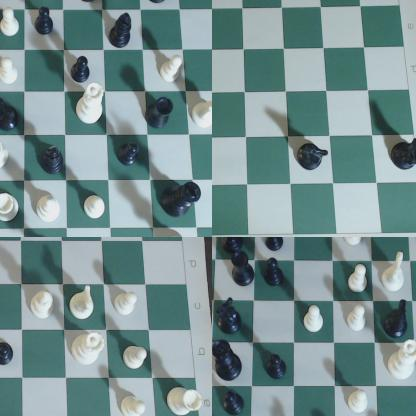black-bishop: (109, 11, 135, 51), (41, 143, 65, 177), (262, 259, 288, 287), (218, 238, 247, 257), (263, 238, 288, 253)
black-king: (160, 180, 203, 217)
black-knight: (296, 138, 330, 174), (384, 298, 412, 339), (217, 294, 243, 336), (390, 138, 416, 175), (1, 96, 22, 131)
black-pawn: (67, 54, 100, 84), (116, 139, 144, 174), (35, 4, 60, 42), (265, 351, 290, 383), (224, 390, 248, 416), (1, 338, 17, 369)
black-queen: (213, 339, 246, 382)
black-rook: (144, 99, 177, 133), (232, 250, 257, 287)
white-bishop: (28, 285, 60, 326), (35, 193, 62, 224)
white-knight: (383, 250, 409, 295), (69, 284, 100, 321), (192, 95, 212, 130)
white-pawn: (113, 290, 144, 321), (83, 192, 110, 226), (1, 55, 25, 90), (120, 346, 152, 372), (345, 304, 371, 334), (346, 265, 371, 296), (121, 392, 151, 416), (160, 56, 183, 87), (3, 7, 24, 39), (303, 305, 325, 335), (347, 390, 372, 413), (343, 238, 365, 247)
white-queen: (76, 82, 107, 127), (72, 333, 108, 370), (386, 339, 416, 383)
white-rook: (164, 380, 202, 416), (1, 190, 21, 225), (1, 139, 12, 174)
